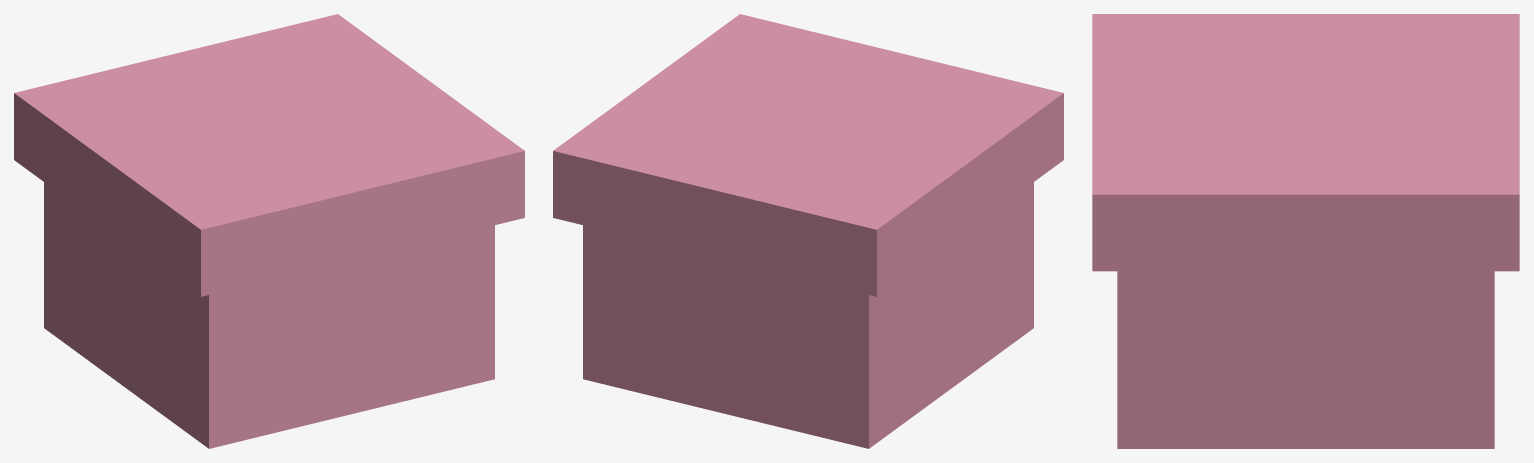
3 renders of one model, left to right at view 1: azimuth 30°, elevation 25°; view 2: azimuth 150°, elevation 25°; view 3: azimuth 270°, elevation 25°, orthographic. The views are drawn at different scales.
Visible parts, largest first — view 1: Box_5; view 2: Box_5; view 3: Box_5.
Boxes of the visible parts, <box> form: Box_5: <box>14,14,524,448</box>; Box_5: <box>553,14,1063,448</box>; Box_5: <box>1092,14,1519,448</box>.
Size of the model in its own units: 81.42 by 55.69 by 81.42.
